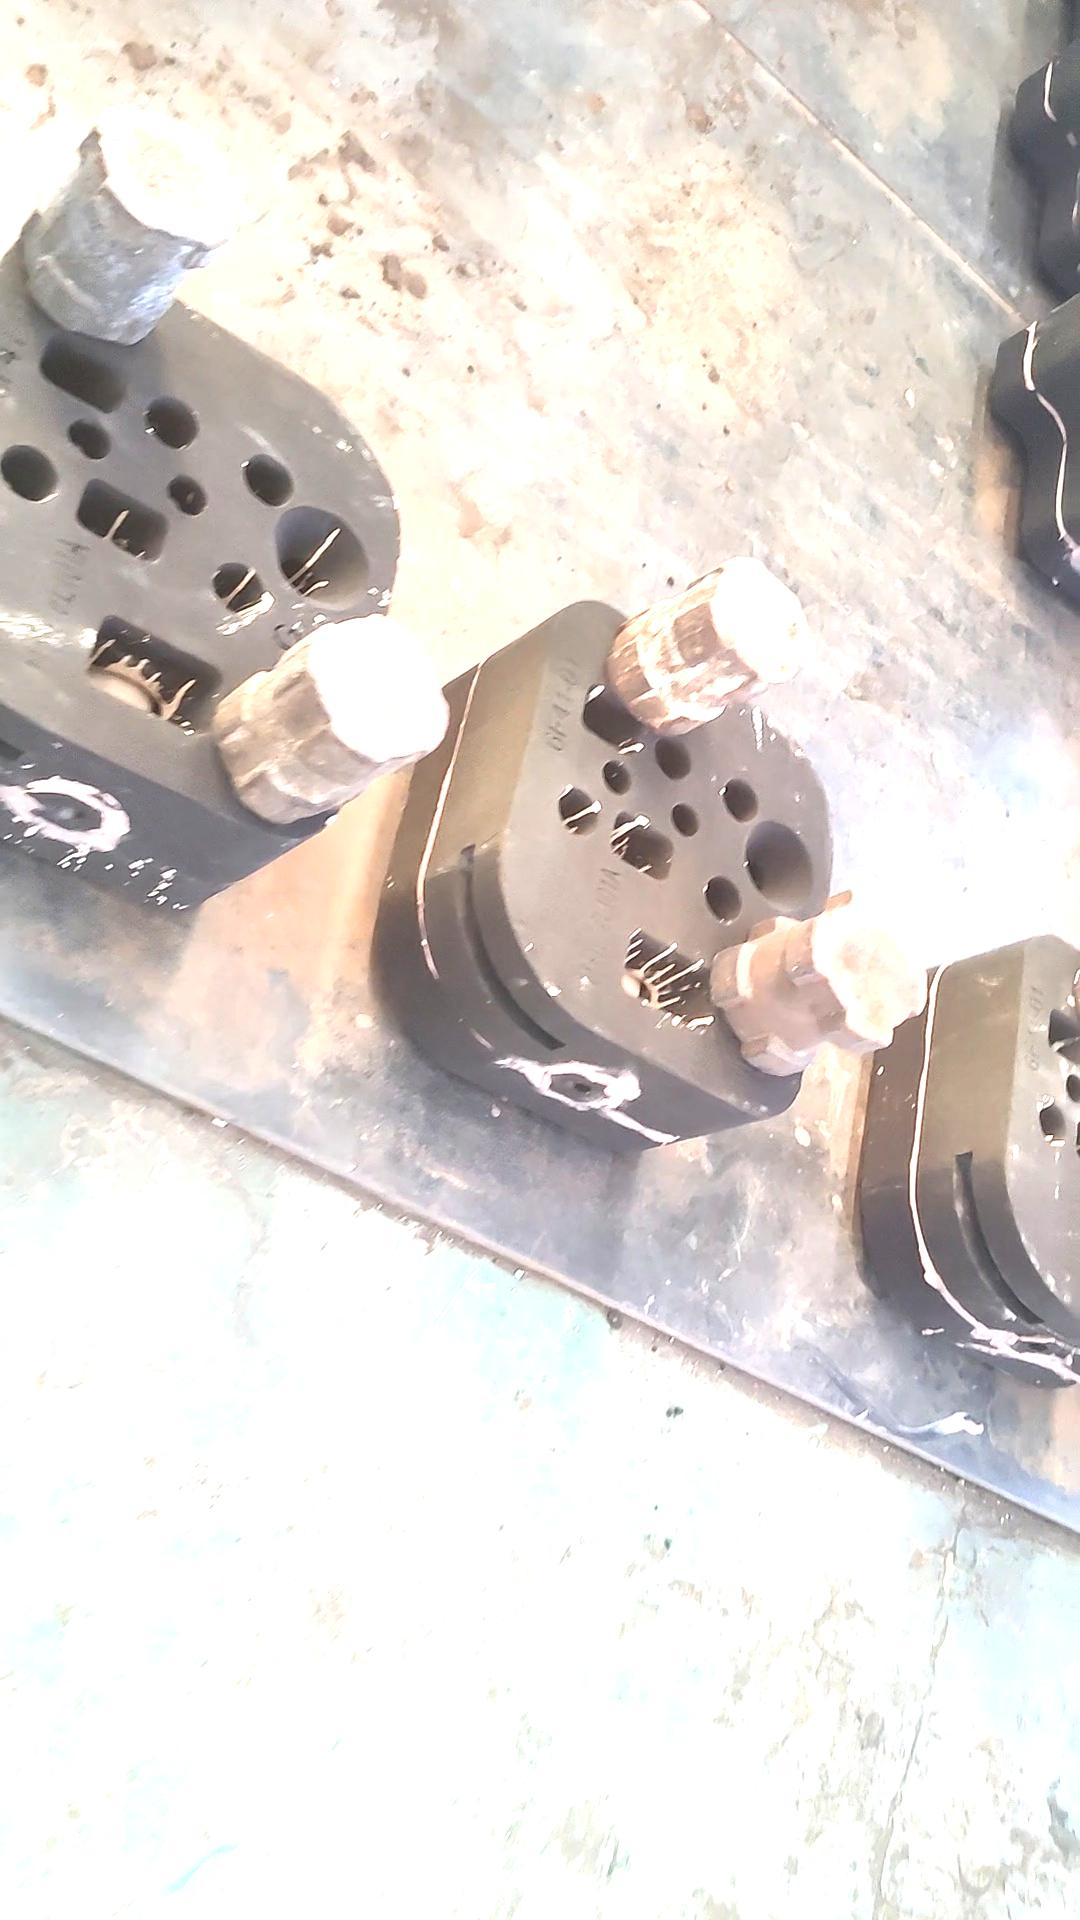pouring hole: (273, 506, 369, 608), (744, 822, 814, 911)
